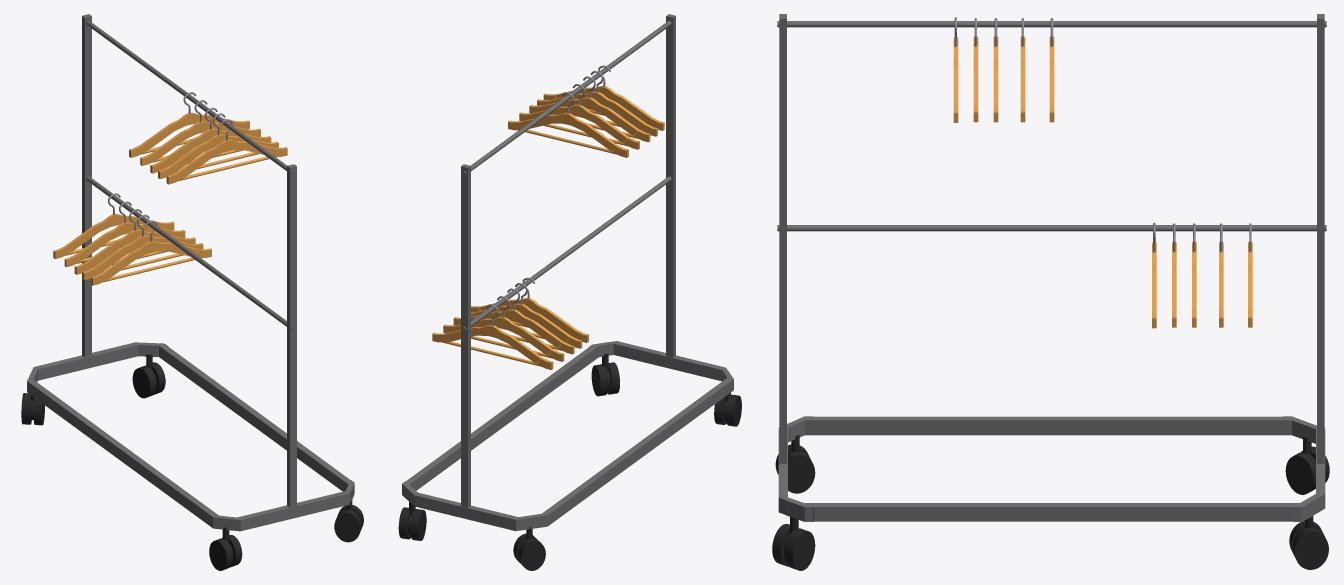
File: coathanger2.fbx
3 views of the same model, side by side, from view 1: azimuth 30°, elevation 25°; view 2: azimuth 150°, elevation 25°; view 3: azimuth 270°, elevation 25° (orthographic). The views are drawn at different scales.
Visible parts, largest first — view 1: Cylinder.004, Cylinder.006, Cylinder.011, Cylinder.005, Cylinder.010, Cylinder.001, Cylinder.007, Cylinder.008, Cylinder.002, Cylinder.009, Cylinder.003; view 2: Cylinder.004, Cylinder.001, Cylinder.007, Cylinder.002, Cylinder.008, Cylinder.003, Cylinder.009, Cylinder.005, Cylinder.006, Cylinder.011, Cylinder.010; view 3: Cylinder.004.
Part boxes in pixels (x1,y1,x2,y2): Cylinder.004: (21,14,363,570); Cylinder.006: (166,119,287,184); Cylinder.011: (91,220,211,285); Cylinder.005: (158,113,278,178); Cylinder.010: (82,214,203,280); Cylinder.001: (129,92,249,157); Cylinder.007: (53,193,174,259); Cylinder.008: (64,201,185,267); Cylinder.002: (140,100,260,165); Cylinder.009: (74,209,195,274); Cylinder.003: (150,107,271,173); Cylinder.004: (398,14,741,570); Cylinder.001: (508,92,628,157); Cylinder.007: (432,304,553,369); Cylinder.002: (519,84,639,149); Cylinder.008: (443,296,564,361); Cylinder.003: (529,76,650,142); Cylinder.009: (453,288,574,354); Cylinder.005: (537,70,657,136); Cylinder.006: (543,65,664,130); Cylinder.011: (471,277,588,342); Cylinder.010: (471,283,582,348); Cylinder.004: (772,14,1329,570).
Size of the model in its own units: 531 by 1333 by 1318.
